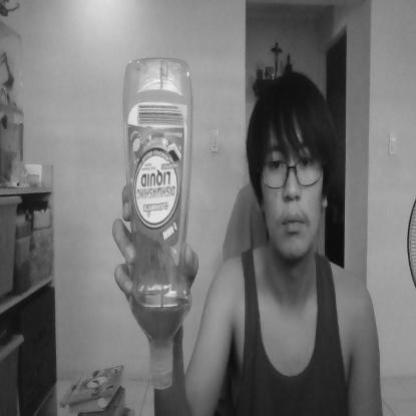Plastic Bottle: (118, 61, 201, 401)
